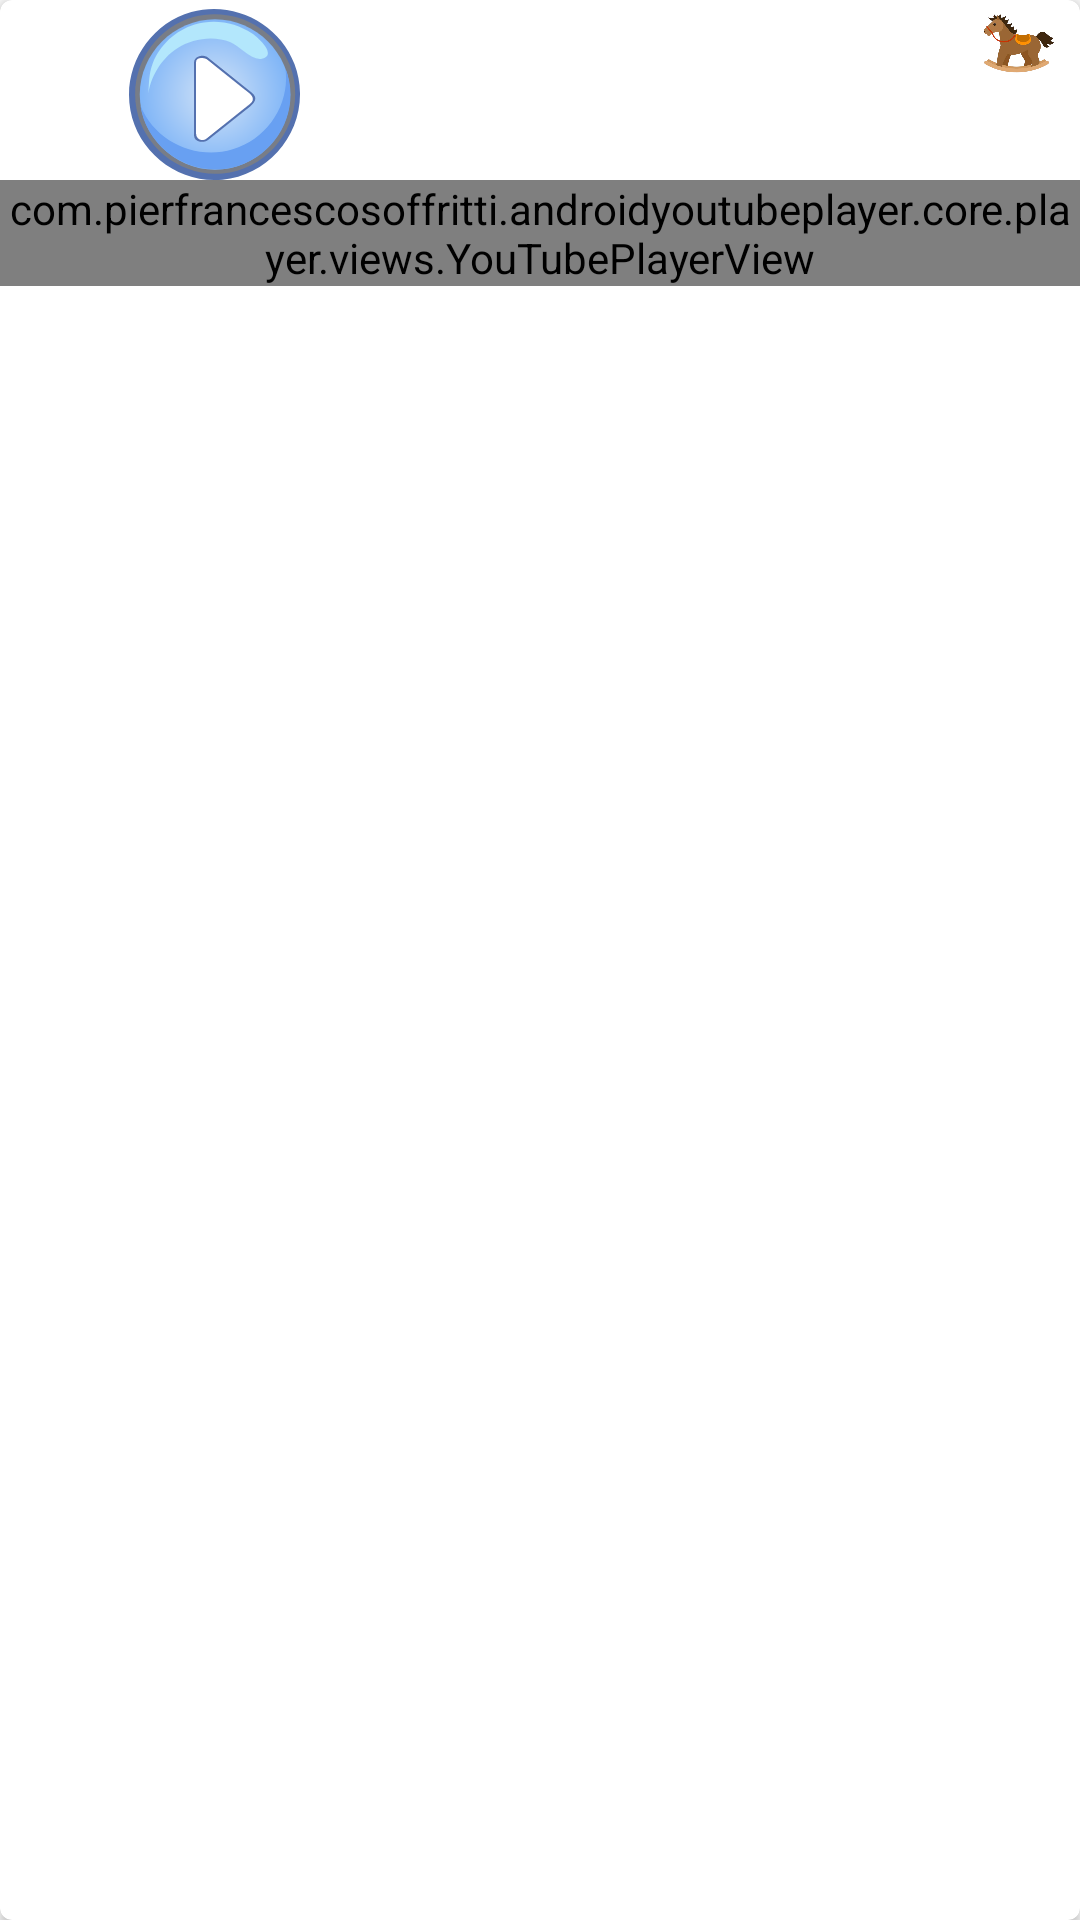

Where to tap for icons on this 1080x1920 app screen, as (x,y):
horse: (1019,43)
